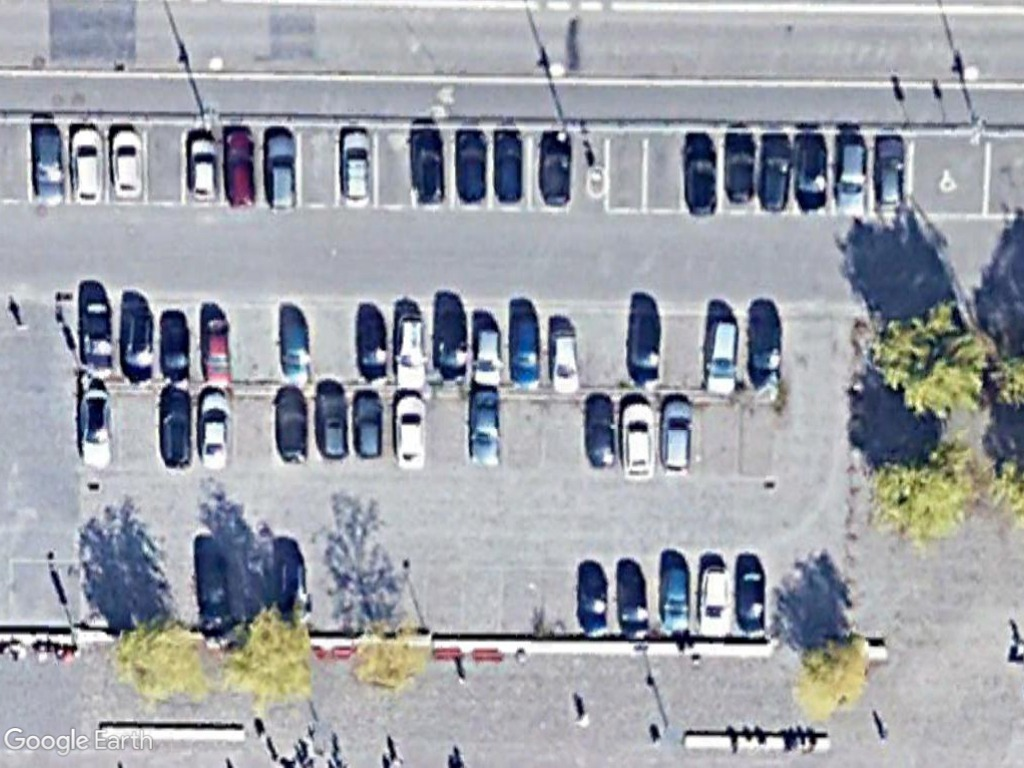car: (503, 300, 549, 401), (620, 303, 671, 394), (695, 313, 745, 404), (64, 117, 111, 212), (616, 389, 661, 487), (744, 306, 790, 398), (679, 131, 725, 220), (387, 389, 433, 478), (384, 309, 437, 386), (430, 296, 471, 395), (111, 295, 156, 385), (27, 121, 71, 213), (532, 126, 579, 212), (334, 120, 377, 214), (656, 388, 699, 481), (463, 384, 507, 474), (272, 300, 316, 389), (731, 551, 774, 640), (219, 123, 261, 214), (153, 384, 195, 474), (258, 124, 299, 216), (268, 384, 312, 469), (76, 382, 116, 475), (349, 306, 394, 388), (576, 386, 618, 471), (613, 560, 655, 644), (573, 560, 615, 644), (448, 124, 491, 206), (870, 130, 912, 213), (408, 126, 448, 213), (311, 376, 349, 467), (722, 130, 764, 212), (655, 554, 695, 640), (758, 128, 797, 216), (183, 127, 226, 206), (467, 313, 509, 392), (104, 121, 144, 203), (793, 130, 831, 216), (195, 310, 233, 396), (831, 133, 871, 214), (546, 322, 585, 405), (697, 555, 735, 640), (490, 126, 527, 212), (156, 305, 192, 392), (197, 385, 233, 472), (349, 381, 385, 462)
